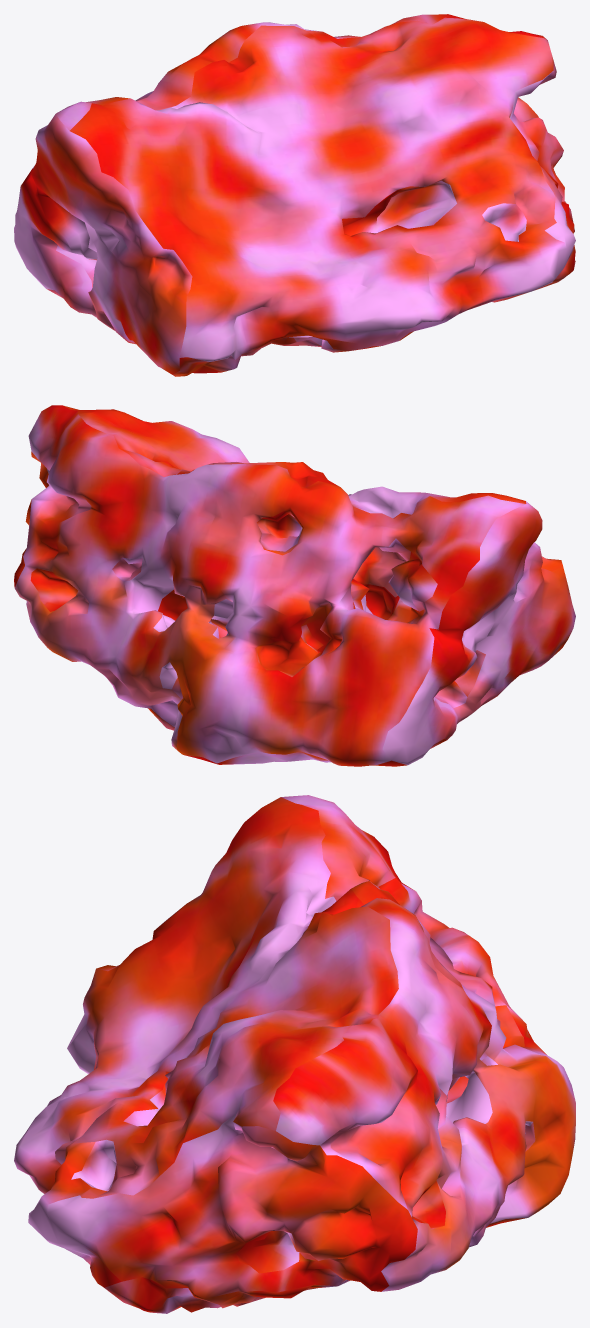
The model's file is 붉은색찌꺼기.glb.
3 views of the same model, one above another, from view 1: azimuth 30°, elevation 25°; view 2: azimuth 150°, elevation 25°; view 3: azimuth 270°, elevation 25° (orthographic). The views are drawn at different scales.
Visible parts, largest first — view 1: Aset_nature__S_vjcvaey_00_lod0; view 2: Aset_nature__S_vjcvaey_00_lod0; view 3: Aset_nature__S_vjcvaey_00_lod0.
Part boxes in pixels (left/top/right/bottom): Aset_nature__S_vjcvaey_00_lod0: left=14, top=14, right=575, bottom=376; Aset_nature__S_vjcvaey_00_lod0: left=14, top=405, right=575, bottom=766; Aset_nature__S_vjcvaey_00_lod0: left=14, top=795, right=575, bottom=1313.
Size of the model in its own units: 8.73 by 4.44 by 7.16.
Materials: 1 (1 with a texture image).
